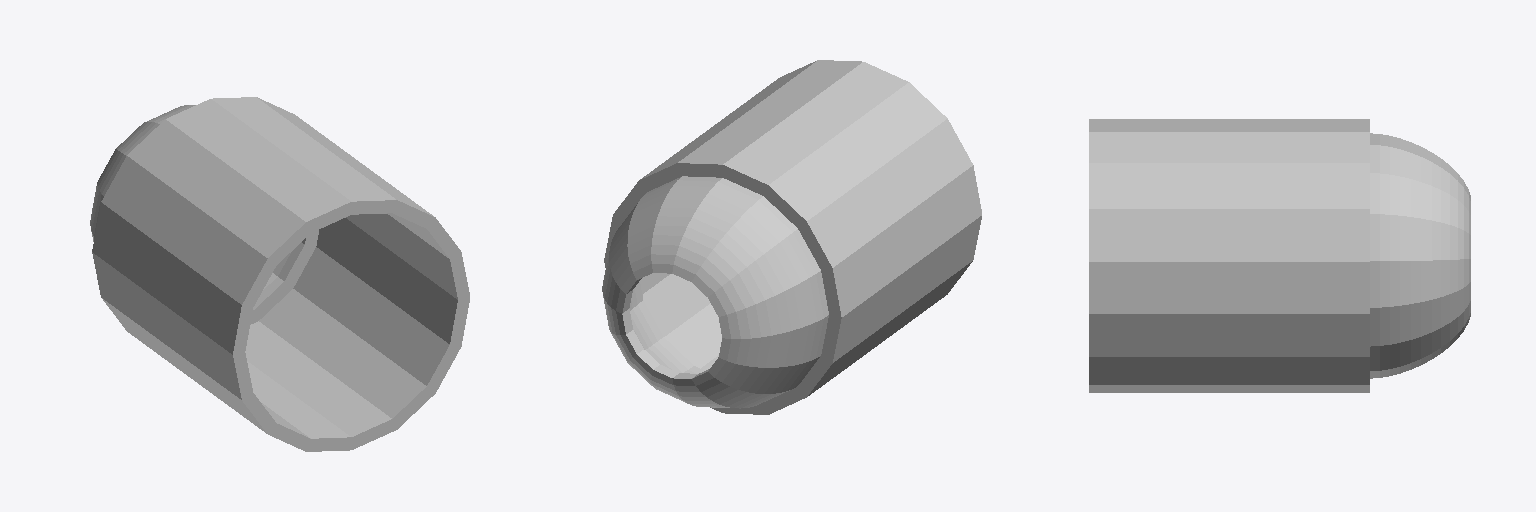
File: fitting.obj
3 views of the same model, side by side, from view 1: azimuth 30°, elevation 25°; view 2: azimuth 150°, elevation 25°; view 3: azimuth 270°, elevation 25° (orthographic).
Parts seen in each view (by area): view 1: BezierCurve_BezierCurve.001; view 2: BezierCurve_BezierCurve.001; view 3: BezierCurve_BezierCurve.001.
Part boxes in pixels (left/top/right/bottom): BezierCurve_BezierCurve.001: left=90, top=97, right=469, bottom=451; BezierCurve_BezierCurve.001: left=602, top=60, right=981, bottom=414; BezierCurve_BezierCurve.001: left=1089, top=119, right=1470, bottom=392.
Bounding box in the file's own units: 38 × 38 × 53.